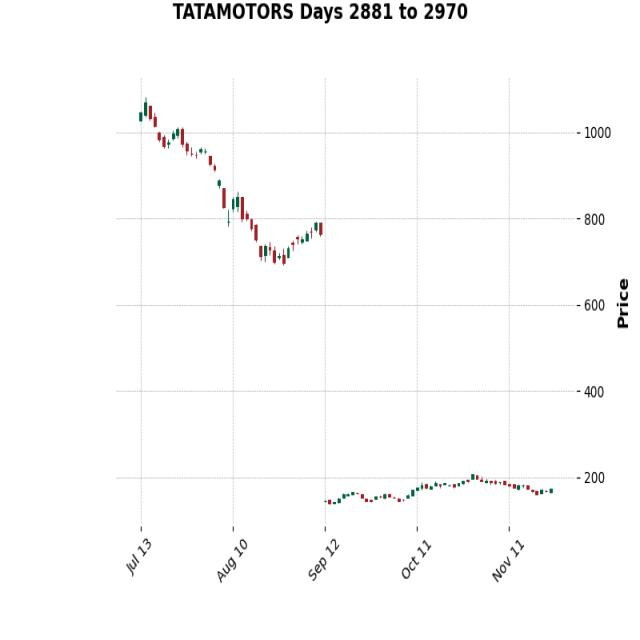Descending Triangle: (139, 98, 337, 282)
